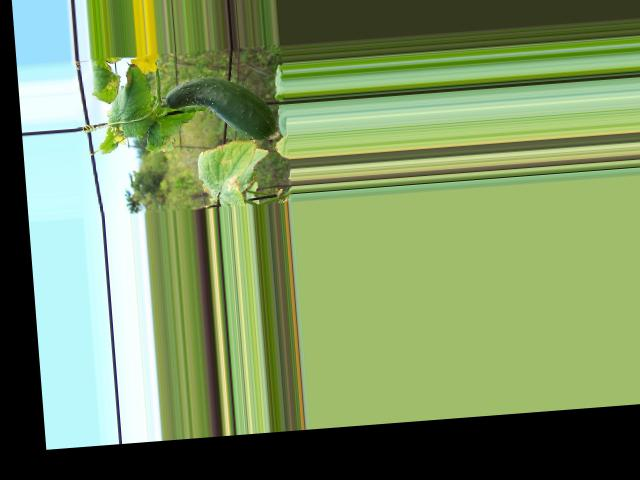cucumber: (162, 72, 277, 147)
